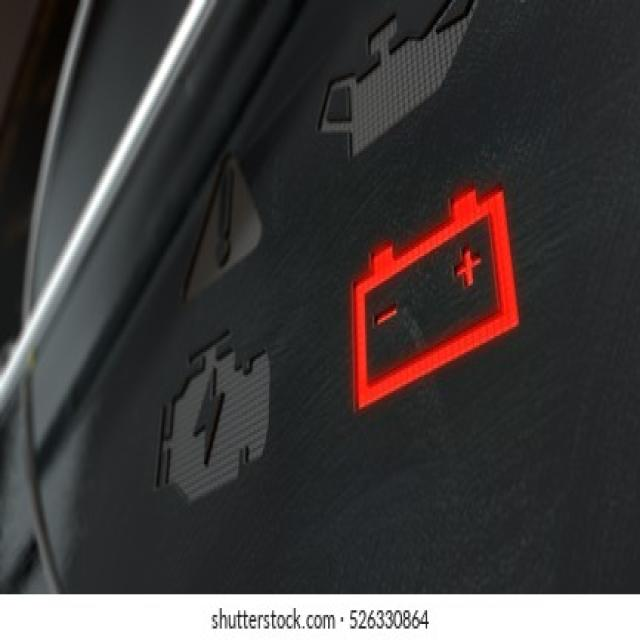Charging System Issue: (343, 178, 526, 421)
